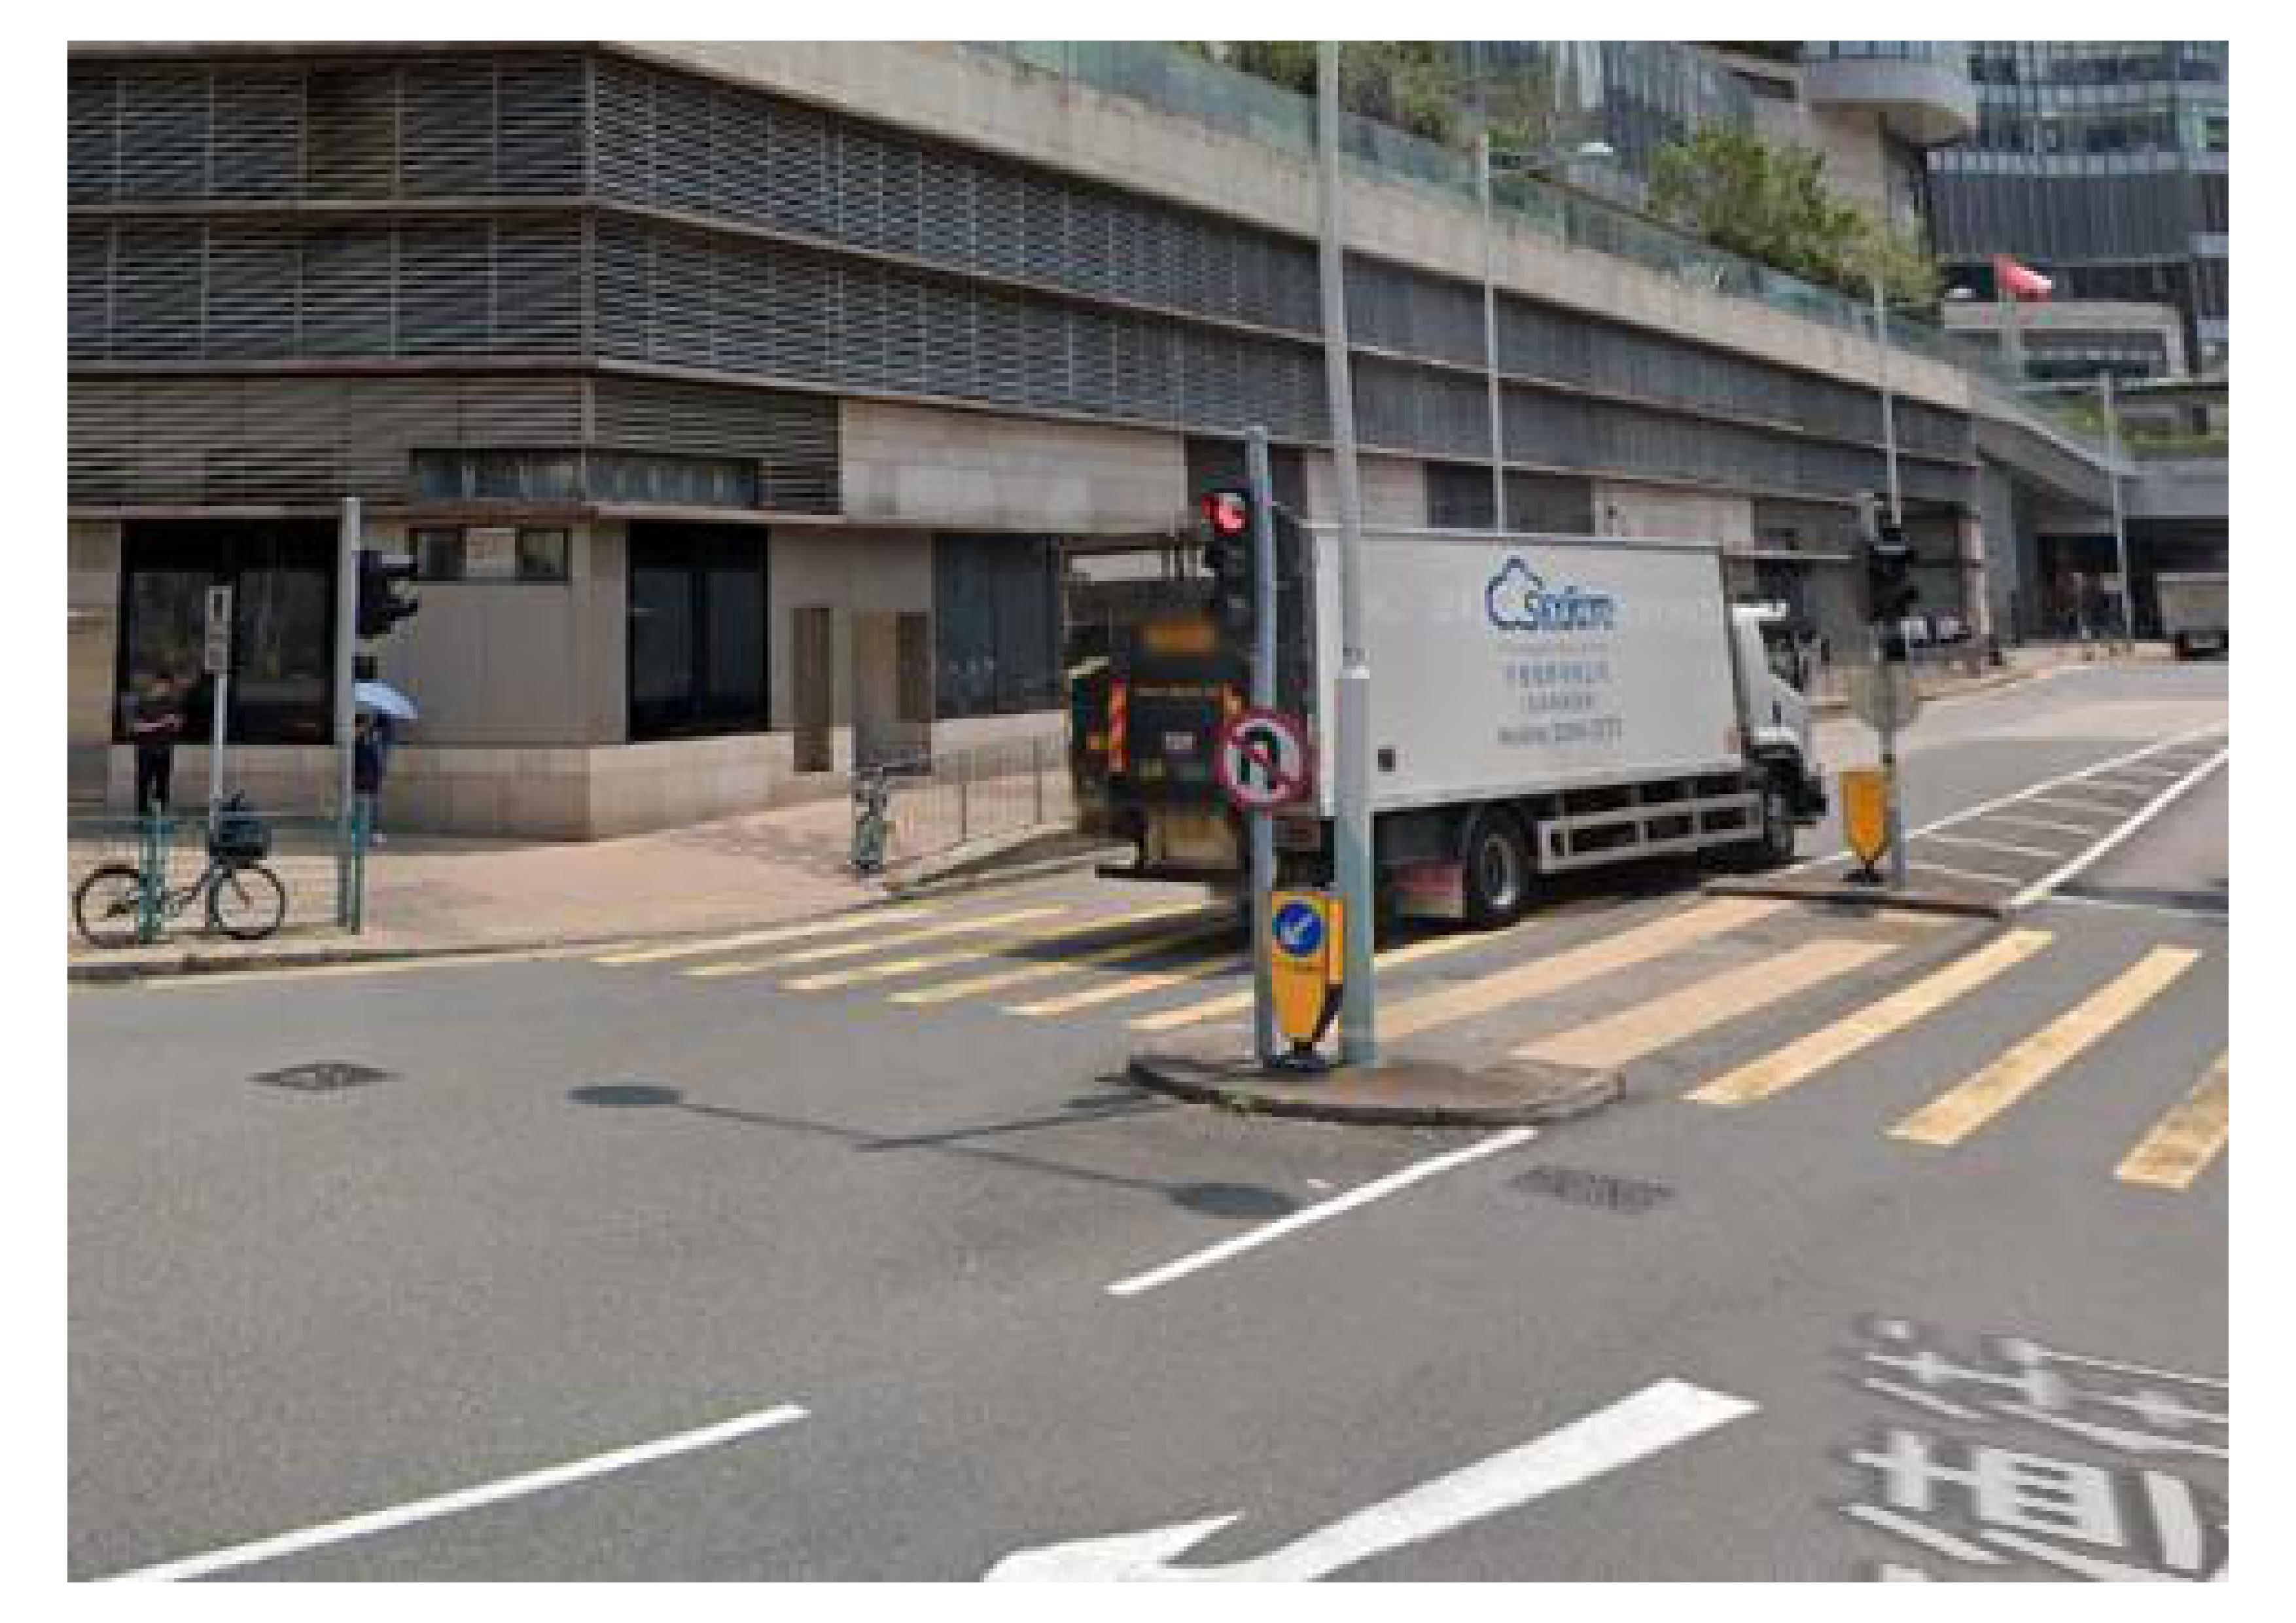No Uturn: (1215, 711, 1311, 810)
